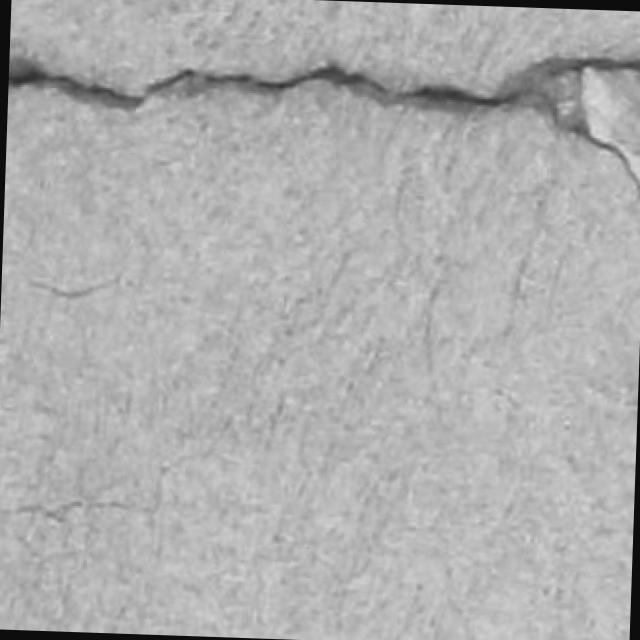crack: (9, 57, 639, 194)
